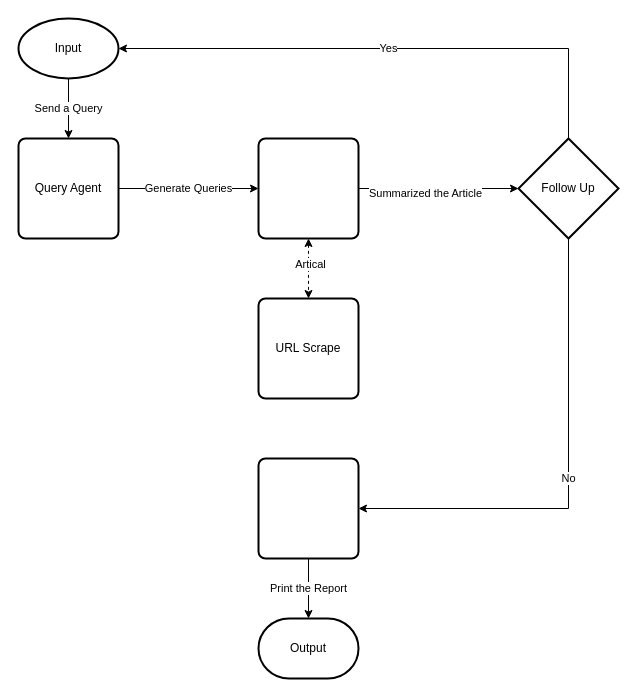
The diagram is 636 pixels wide and 696 high, and some of its shapes have lost their labels. The shapes that lost their labels are listed below. From the top down, each one's box as (x1, y1, x2, y2) in pixels, then its label:
(257, 137, 359, 239): Search Agent
(257, 457, 359, 559): Synthesis Agent
